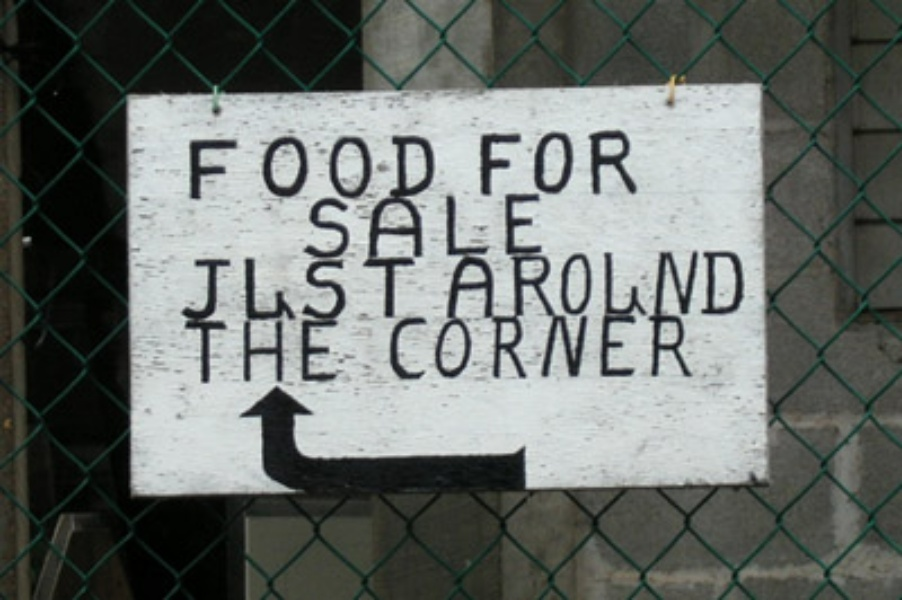text: (449, 249, 464, 321), (465, 249, 480, 321), (481, 249, 496, 321), (497, 249, 512, 321), (513, 249, 528, 321), (529, 249, 544, 321), (545, 249, 560, 321), (561, 249, 576, 321), (577, 249, 592, 321), (593, 249, 608, 321), (609, 249, 624, 321), (625, 249, 640, 321), (641, 249, 656, 321), (657, 249, 672, 321), (673, 249, 688, 321), (689, 249, 704, 321), (705, 249, 720, 321), (721, 249, 736, 321), (321, 192, 336, 262), (337, 192, 352, 262), (353, 192, 368, 262), (369, 192, 384, 262), (385, 192, 400, 262), (401, 192, 416, 262), (417, 192, 432, 262), (433, 192, 448, 262), (449, 192, 464, 262), (465, 192, 480, 262), (481, 192, 496, 262), (497, 192, 512, 262), (513, 192, 528, 262), (529, 192, 544, 262), (401, 316, 416, 382), (417, 316, 432, 382), (433, 316, 448, 382), (449, 316, 464, 382), (465, 316, 480, 382), (481, 316, 496, 382), (497, 316, 512, 382), (513, 316, 528, 382), (529, 316, 544, 382), (545, 316, 560, 382), (561, 316, 576, 382), (577, 316, 592, 382), (593, 316, 608, 382), (609, 316, 624, 382), (625, 316, 640, 382), (641, 316, 656, 382), (657, 316, 672, 382), (673, 316, 688, 382), (481, 129, 496, 194), (497, 129, 512, 194), (513, 129, 528, 194), (529, 129, 544, 194), (545, 129, 560, 194), (561, 129, 576, 194), (577, 129, 592, 194), (593, 129, 608, 194), (609, 129, 624, 194), (193, 319, 208, 384), (209, 319, 224, 384), (225, 319, 240, 384), (241, 319, 256, 384), (257, 319, 272, 384), (273, 319, 288, 384), (289, 319, 304, 384), (305, 319, 320, 384), (321, 319, 336, 384), (193, 138, 208, 201), (209, 138, 224, 201), (273, 136, 288, 199), (289, 136, 304, 199), (305, 136, 320, 199), (321, 136, 336, 199), (337, 136, 352, 199), (353, 136, 368, 199), (369, 136, 384, 199), (385, 136, 400, 199), (401, 136, 416, 199), (417, 136, 432, 199), (193, 258, 208, 321), (209, 258, 224, 321), (225, 258, 240, 321), (241, 258, 256, 321), (257, 258, 272, 321), (273, 258, 288, 321), (289, 258, 304, 321), (305, 258, 320, 321), (321, 258, 336, 321), (337, 258, 352, 321), (353, 258, 368, 321), (369, 258, 384, 321), (385, 258, 400, 321), (307, 192, 320, 262), (401, 258, 415, 321), (179, 258, 192, 321), (388, 316, 400, 382), (225, 138, 237, 201), (260, 136, 272, 199), (625, 129, 636, 194), (183, 319, 192, 384), (737, 249, 745, 321), (433, 136, 436, 199), (689, 316, 691, 382), (337, 319, 339, 384), (190, 138, 192, 201), (447, 249, 448, 321), (479, 129, 480, 194)
